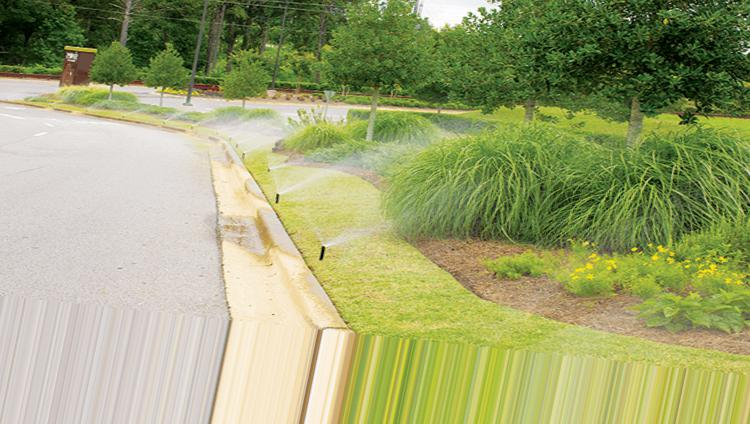patch: (464, 248, 647, 323), (336, 246, 447, 331), (284, 168, 356, 232)
